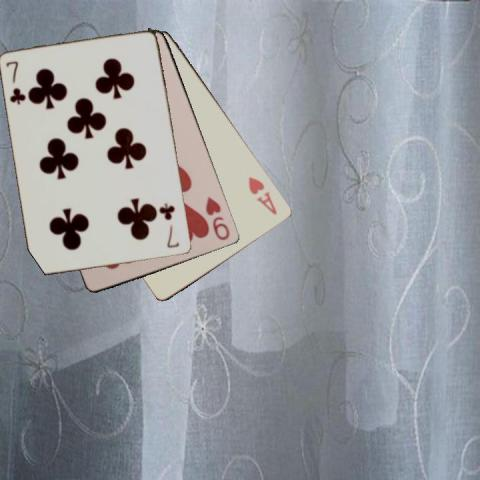7c: (3, 58, 28, 106), (159, 200, 181, 250)
9h: (203, 193, 231, 242)
Ah: (246, 173, 280, 217)
